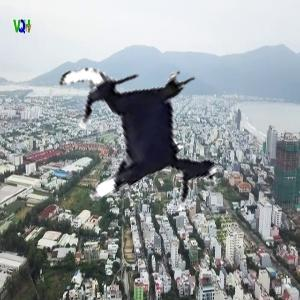drone: (36, 39, 236, 239)
